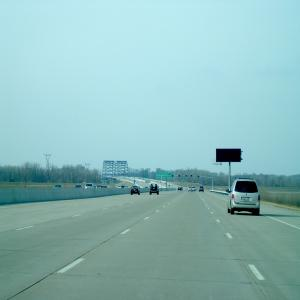Vehicle-registration-plate: (244, 197, 250, 203)
